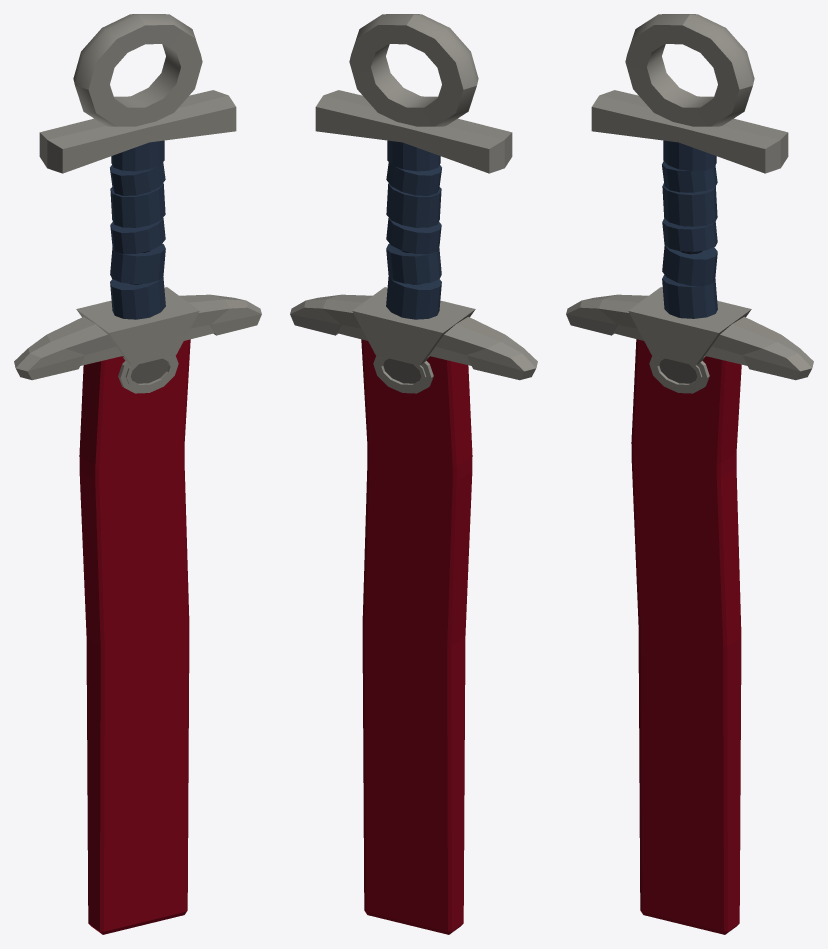
Rendered from StoneSword.fbx.
3 views of the same model, side by side, from view 1: azimuth 30°, elevation 25°; view 2: azimuth 150°, elevation 25°; view 3: azimuth 330°, elevation 25° (orthographic).
Parts seen in each view (by area): view 1: Cube.034, Cube.033, Circle.009, Cube.032, Circle.010, Circle.014, Circle.012, Circle.016, Circle.013, Circle.015, Circle.011; view 2: Cube.034, Cube.033, Circle.009, Cube.032, Circle.010, Circle.014, Circle.012, Circle.016, Circle.013, Circle.015, Circle.011; view 3: Cube.034, Cube.033, Circle.009, Cube.032, Circle.014, Circle.010, Circle.012, Circle.016, Circle.013, Circle.015, Circle.011.
Boxes of the visible parts, box(x1,y1,x2,y2) form: Cube.034: box(79, 339, 190, 934); Cube.033: box(14, 287, 261, 380); Circle.009: box(73, 14, 202, 126); Cube.032: box(39, 90, 236, 173); Circle.010: box(110, 277, 165, 319); Circle.014: box(110, 183, 165, 227); Circle.012: box(110, 243, 165, 283); Circle.016: box(118, 355, 178, 393); Circle.013: box(110, 217, 165, 254); Circle.015: box(110, 162, 165, 195); Circle.011: box(111, 140, 164, 171); Cube.034: box(361, 339, 472, 934); Cube.033: box(290, 287, 537, 380); Circle.009: box(349, 14, 478, 126); Cube.032: box(315, 90, 512, 173); Circle.010: box(386, 276, 441, 319); Circle.014: box(386, 183, 441, 227); Circle.012: box(386, 243, 441, 284); Circle.016: box(373, 355, 433, 393); Circle.013: box(386, 217, 441, 254); Circle.015: box(386, 162, 441, 195); Circle.011: box(387, 140, 440, 171); Cube.034: box(631, 339, 741, 934); Cube.033: box(566, 287, 813, 380); Circle.009: box(625, 14, 754, 126); Cube.032: box(591, 90, 788, 173); Circle.014: box(662, 183, 717, 226); Circle.010: box(662, 274, 717, 318); Circle.012: box(662, 245, 717, 286); Circle.016: box(649, 355, 709, 393); Circle.013: box(662, 218, 717, 251); Circle.015: box(662, 161, 717, 192); Circle.011: box(663, 140, 716, 171).
Size of the model in its own units: 132 by 466 by 30.48.
